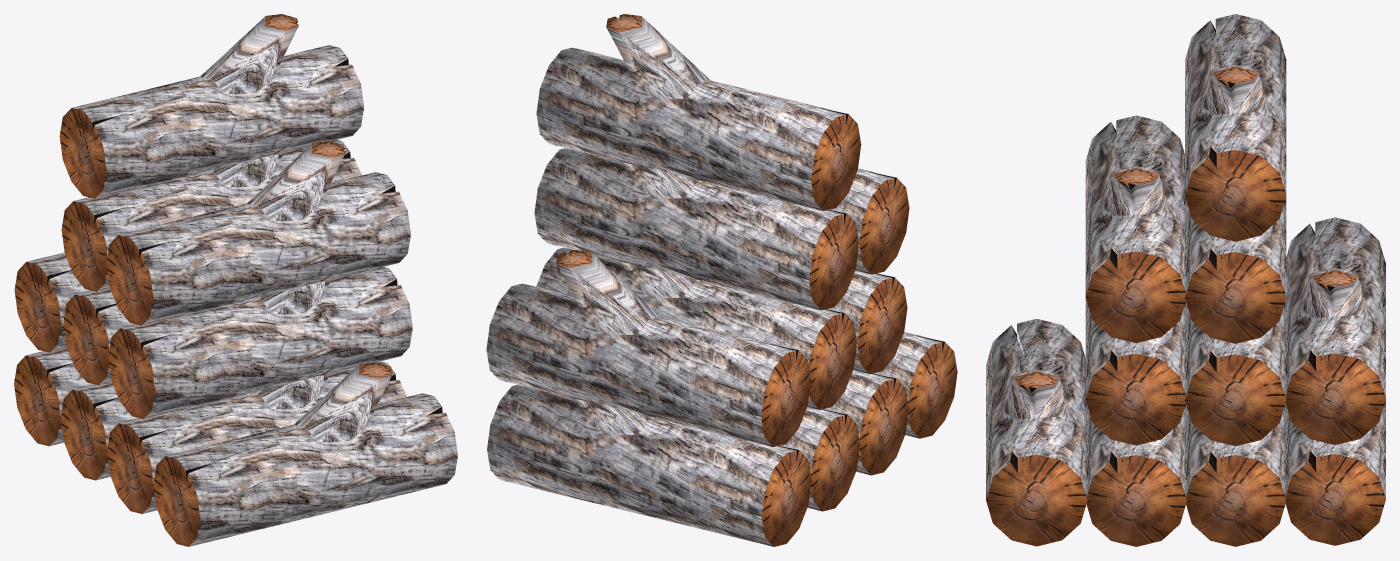
Rendered from LogPile_WeepingWillow.glb.
3 renders of one model, left to right at view 1: azimuth 30°, elevation 25°; view 2: azimuth 150°, elevation 25°; view 3: azimuth 270°, elevation 25°, orthographic. The views are drawn at different scales.
Parts seen in each view (by area): view 1: LogPile_WeepingWillow; view 2: LogPile_WeepingWillow; view 3: LogPile_WeepingWillow.
Part boxes in pixels (box(x1,y1,x2,y2)): LogPile_WeepingWillow: box(14, 14, 457, 546); LogPile_WeepingWillow: box(486, 14, 957, 546); LogPile_WeepingWillow: box(986, 14, 1385, 546).
Bounding box in the file's own units: 3.43 × 5.1 × 4.2.
Materials: 2 (2 with a texture image).
